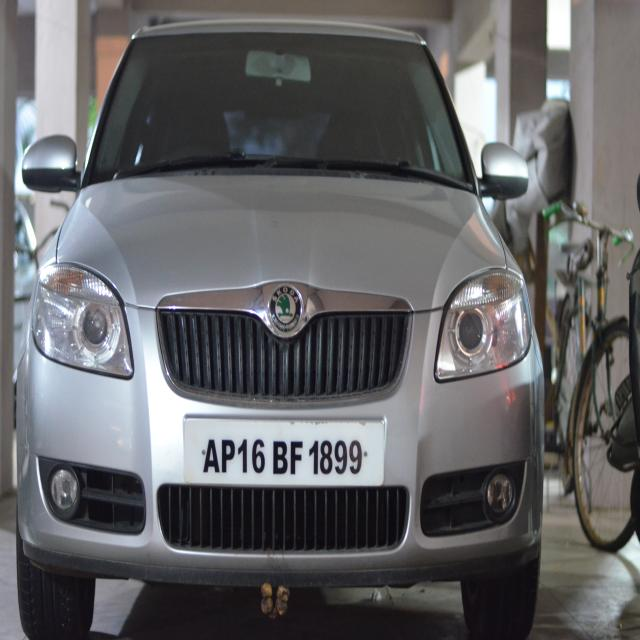four_wheeler: (1, 10, 561, 627)
